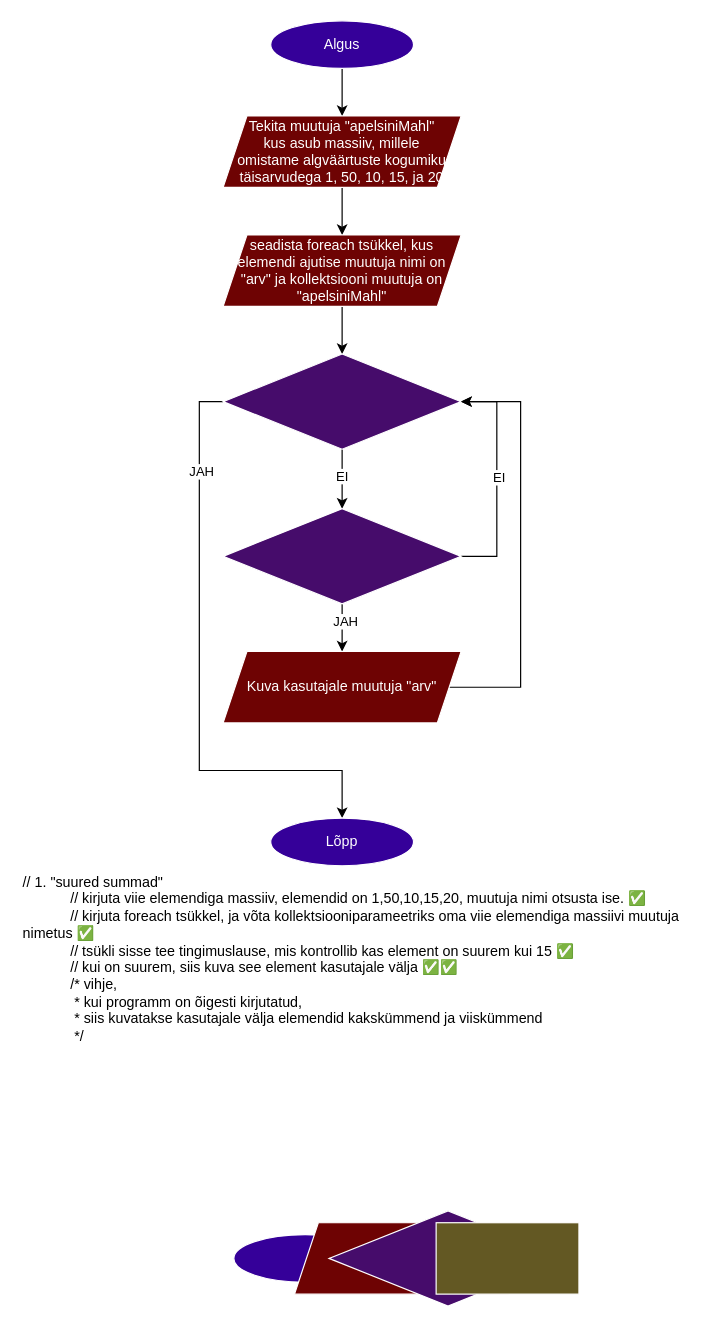
Image size: 707x1327. Some labels were removed from this diagram. The centre of each missing label's shape, as x and y in pixels:
Kas ajutises muutjas "arv" olev väärtus on suurem kui 15?: pixel 341 556
Kas eelmine element oli kollektsioonis viimane element?: pixel 341 401
